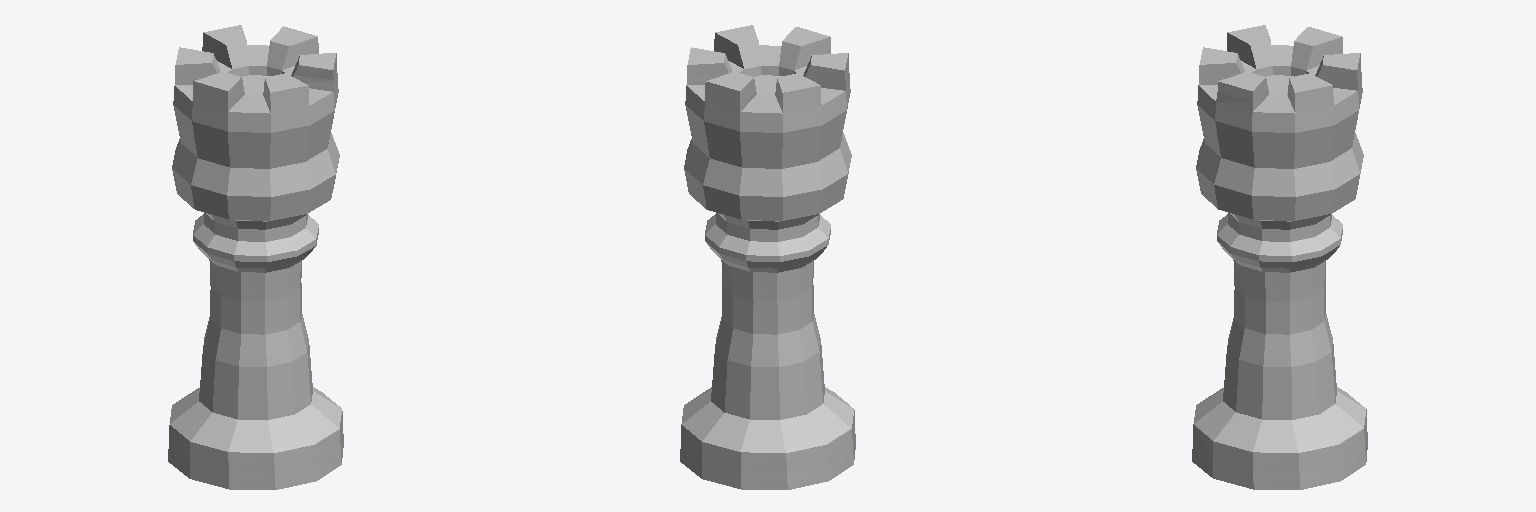
Rendered from wieza.obj.
The picture shows the model from 3 angles: view 1: azimuth 30°, elevation 25°; view 2: azimuth 150°, elevation 25°; view 3: azimuth 270°, elevation 25°; orthographic projection.
Parts seen in each view (by area): view 1: baila_wieza; view 2: baila_wieza; view 3: baila_wieza.
Part boxes in pixels (bbox=[...]): baila_wieza: bbox=[168, 25, 343, 489]; baila_wieza: bbox=[680, 25, 855, 489]; baila_wieza: bbox=[1192, 25, 1367, 489].
Bounding box in the file's own units: 1.36 × 3.36 × 1.36.